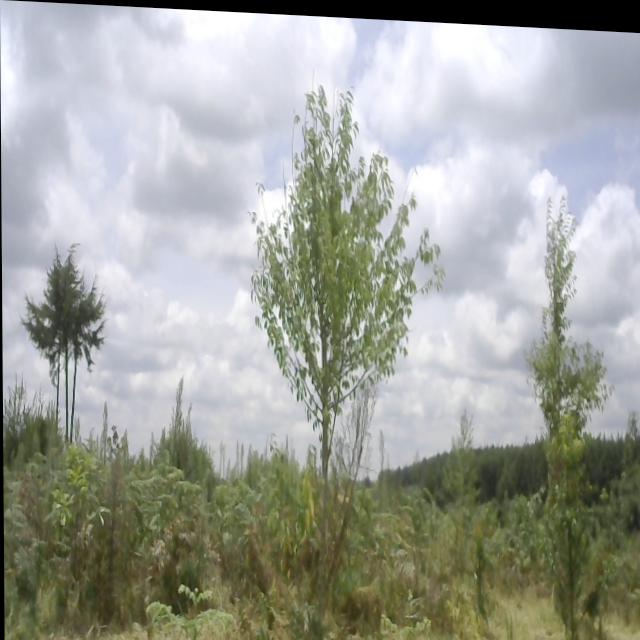cedrus: (67, 252, 112, 459), (24, 253, 63, 449), (50, 238, 71, 467)
other: (232, 65, 481, 606), (518, 179, 601, 624)
